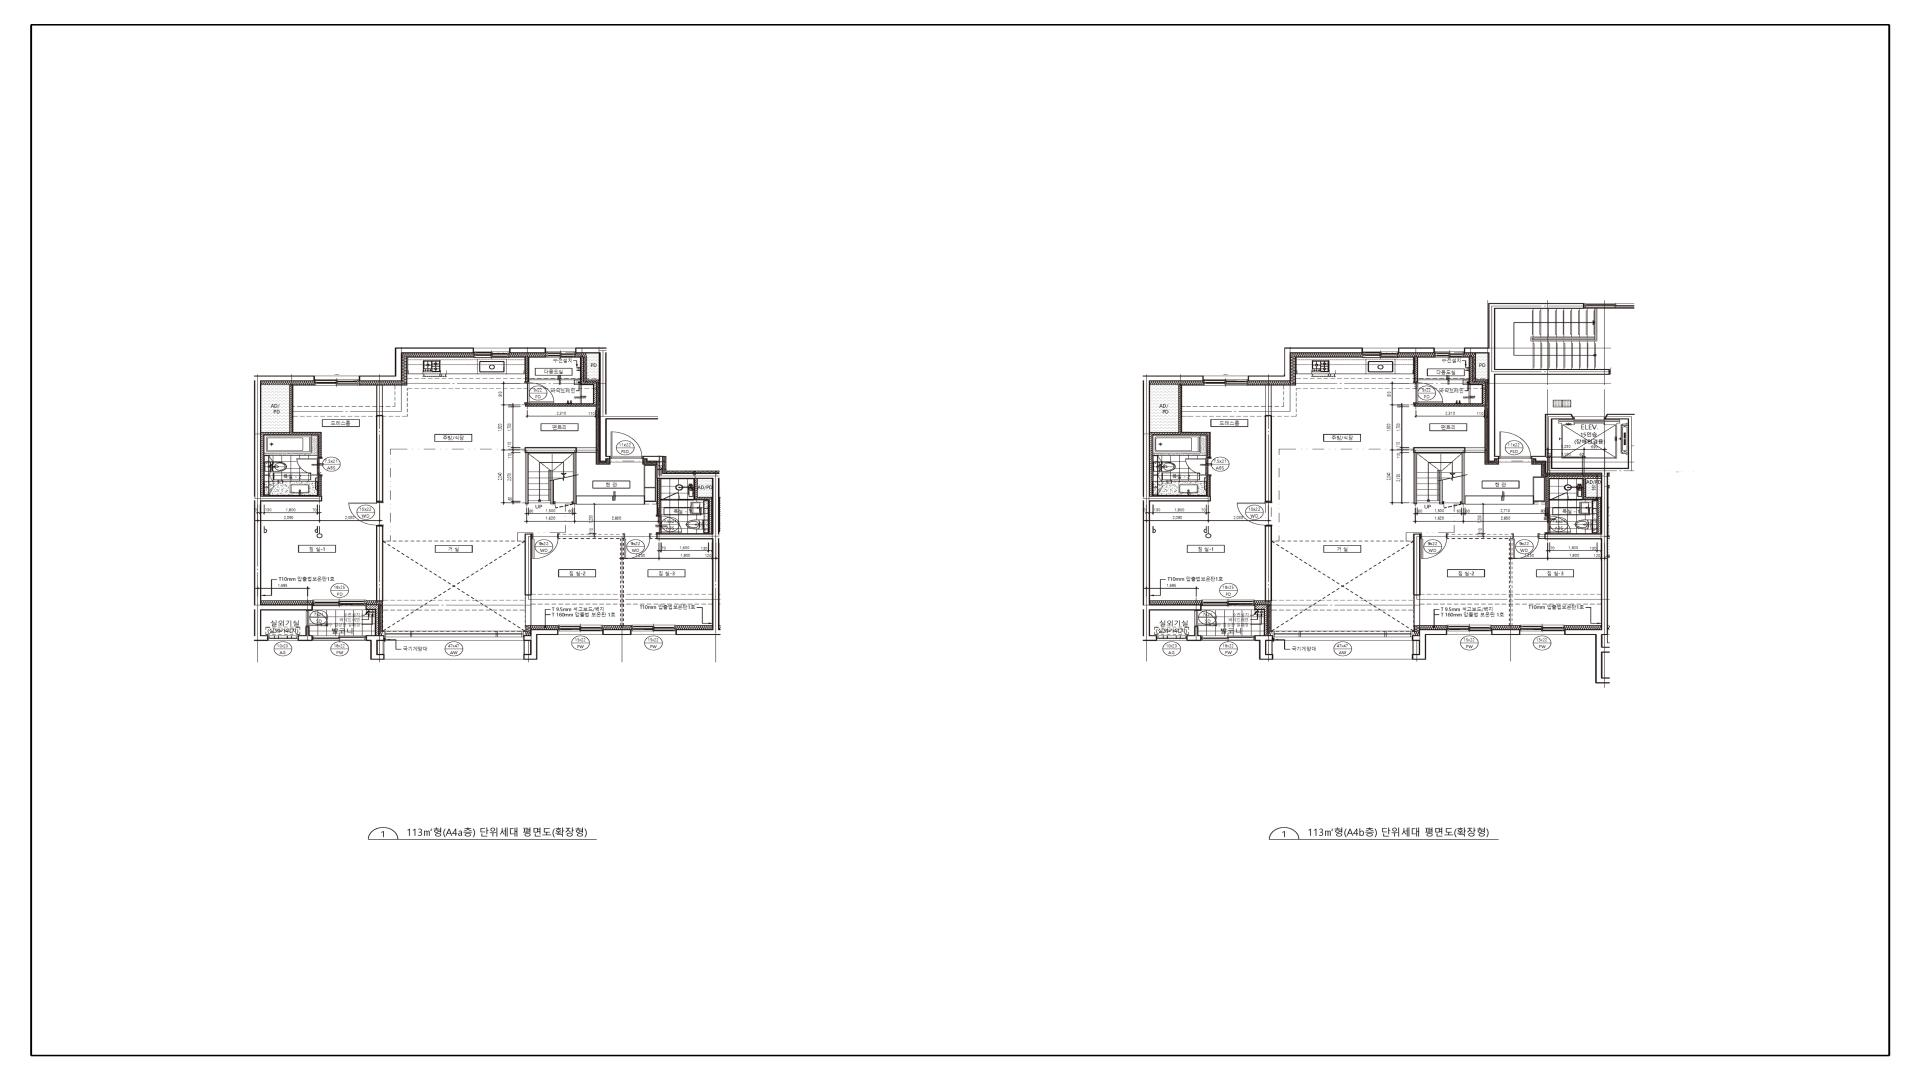door: (1499, 431, 1531, 462), (1237, 501, 1273, 527), (611, 431, 642, 459), (348, 502, 384, 526), (531, 534, 559, 559), (525, 381, 555, 404), (1414, 381, 1444, 404), (1513, 534, 1539, 559), (1420, 534, 1447, 559), (624, 534, 650, 559), (1544, 514, 1571, 534), (1185, 458, 1212, 476), (297, 458, 323, 476), (657, 516, 682, 534), (306, 611, 330, 628), (1195, 611, 1217, 626), (1549, 492, 1582, 501), (661, 492, 680, 501), (1443, 501, 1462, 509), (554, 501, 572, 509)
wall: (1464, 303, 1610, 462), (1531, 414, 1635, 636), (1143, 376, 1211, 641), (255, 376, 322, 641), (642, 456, 720, 636), (1150, 385, 1211, 496), (261, 385, 322, 496), (559, 534, 624, 626), (1448, 534, 1513, 625), (525, 447, 597, 505), (1414, 447, 1485, 504), (575, 348, 611, 462), (1247, 348, 1364, 381), (359, 348, 473, 381), (525, 356, 597, 406), (1414, 357, 1485, 407), (1545, 476, 1601, 534), (680, 479, 712, 533), (1412, 629, 1447, 661), (524, 629, 558, 659), (376, 385, 384, 502), (1265, 385, 1271, 501), (1414, 534, 1420, 626), (525, 534, 531, 626), (376, 526, 384, 601), (1265, 527, 1273, 601), (1254, 636, 1274, 659), (367, 636, 385, 659), (1254, 604, 1267, 636), (367, 604, 380, 636), (1187, 626, 1201, 641), (1398, 348, 1435, 353), (509, 348, 546, 353), (1491, 629, 1520, 636), (298, 626, 311, 641), (604, 629, 630, 636), (657, 479, 661, 516), (525, 356, 530, 381), (1205, 476, 1211, 496), (1414, 356, 1418, 381), (550, 480, 554, 504), (1439, 480, 1443, 504), (318, 476, 322, 496), (650, 534, 657, 539), (1539, 534, 1544, 539)
window: (1274, 632, 1412, 641), (385, 632, 524, 641), (313, 600, 367, 611), (1201, 600, 1254, 611), (630, 625, 676, 636), (558, 625, 604, 636), (1520, 625, 1565, 636), (315, 376, 359, 386), (1203, 376, 1247, 385), (1447, 625, 1491, 634), (473, 348, 509, 357), (1362, 348, 1398, 357), (311, 636, 367, 641), (1201, 636, 1254, 641), (1584, 303, 1635, 309), (546, 348, 575, 357), (1435, 348, 1464, 357), (1156, 636, 1187, 641), (269, 636, 298, 641)
